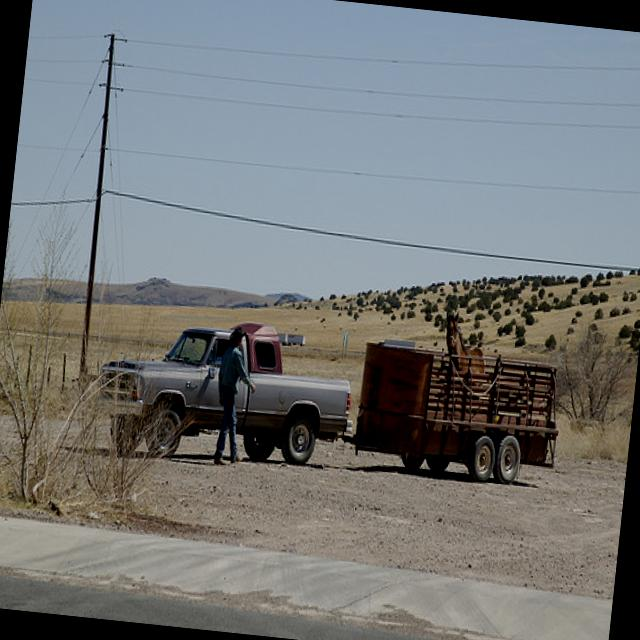Vehicle: (91, 306, 567, 500)
